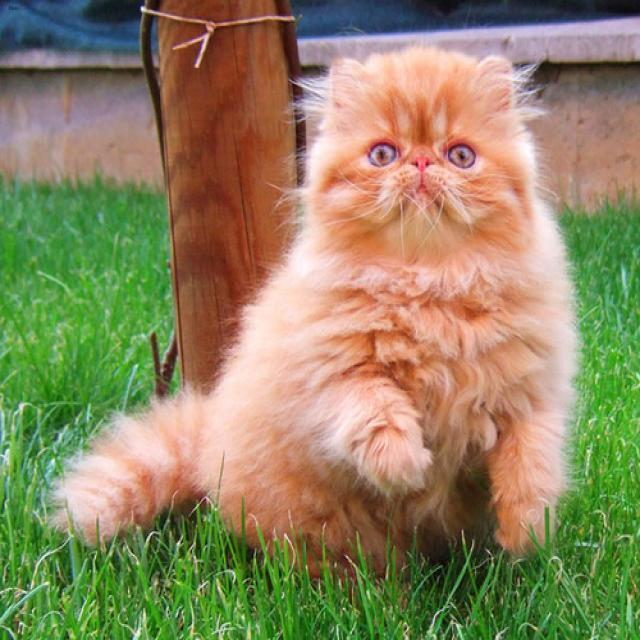Persian: (318, 48, 537, 255)
